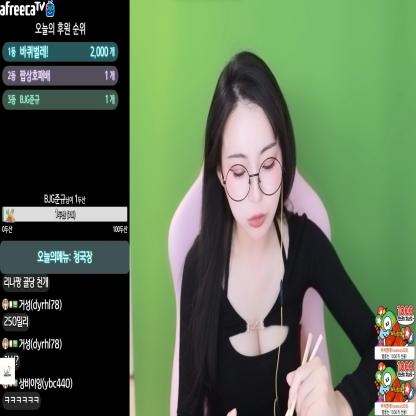donation: (374, 301, 416, 363), (375, 361, 416, 416)
streamer: (176, 49, 397, 416)
